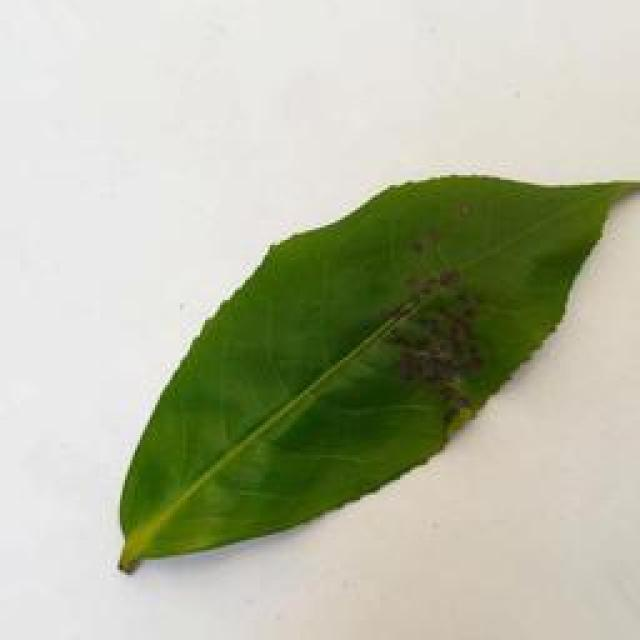Helopeltis: (106, 162, 637, 580)
